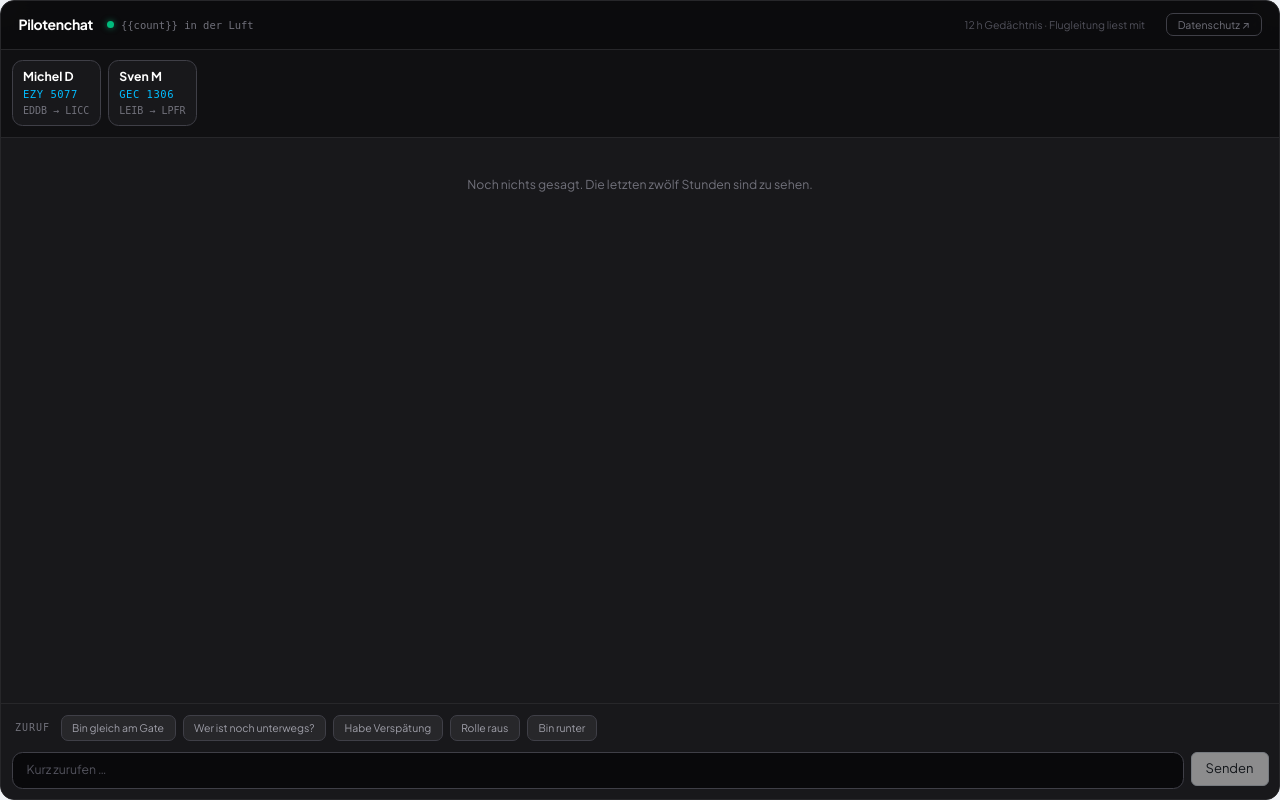
Pilotenchat › nach dem Senden ist die Adressierung wieder aufgehoben
Click the text "Michel D" at (48, 77), box [23,68,74,86]
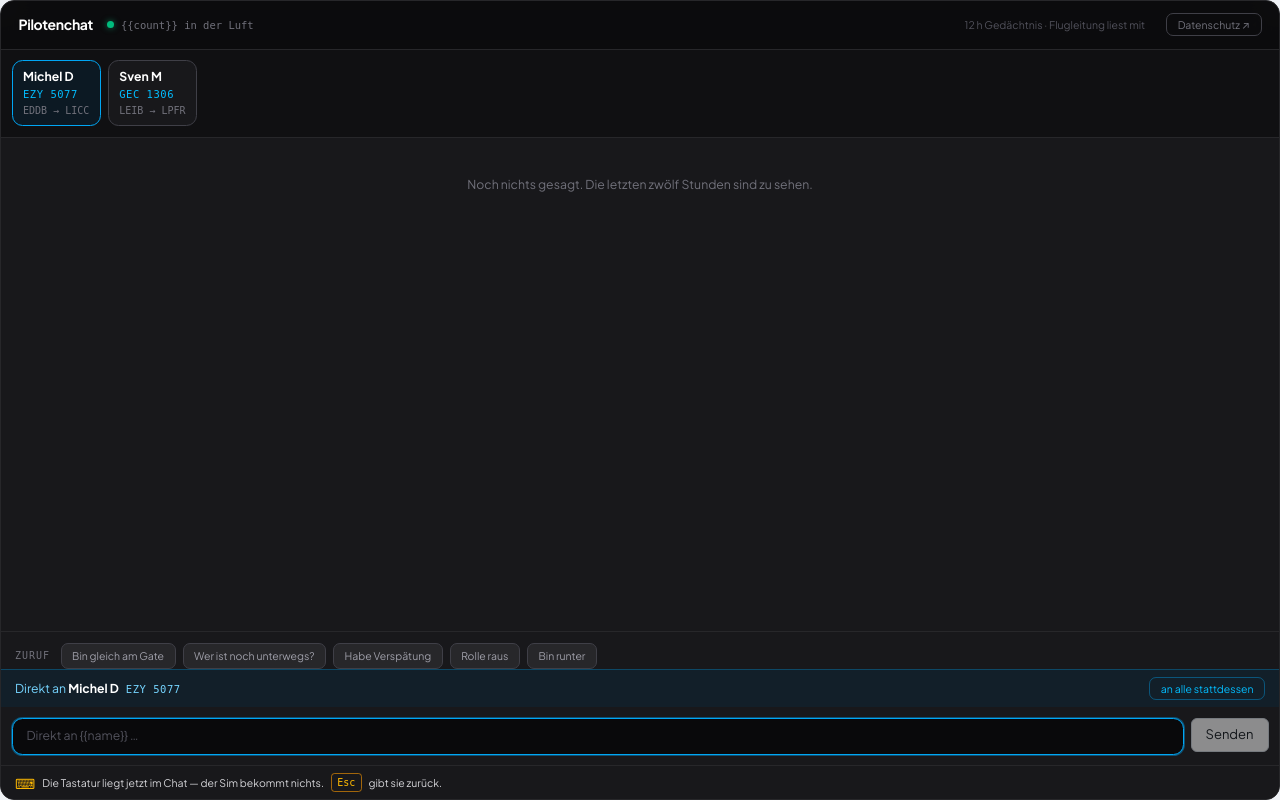
Type "eins" into the field named "Nachricht schreiben" at (598, 736), box [12,718,1184,755]
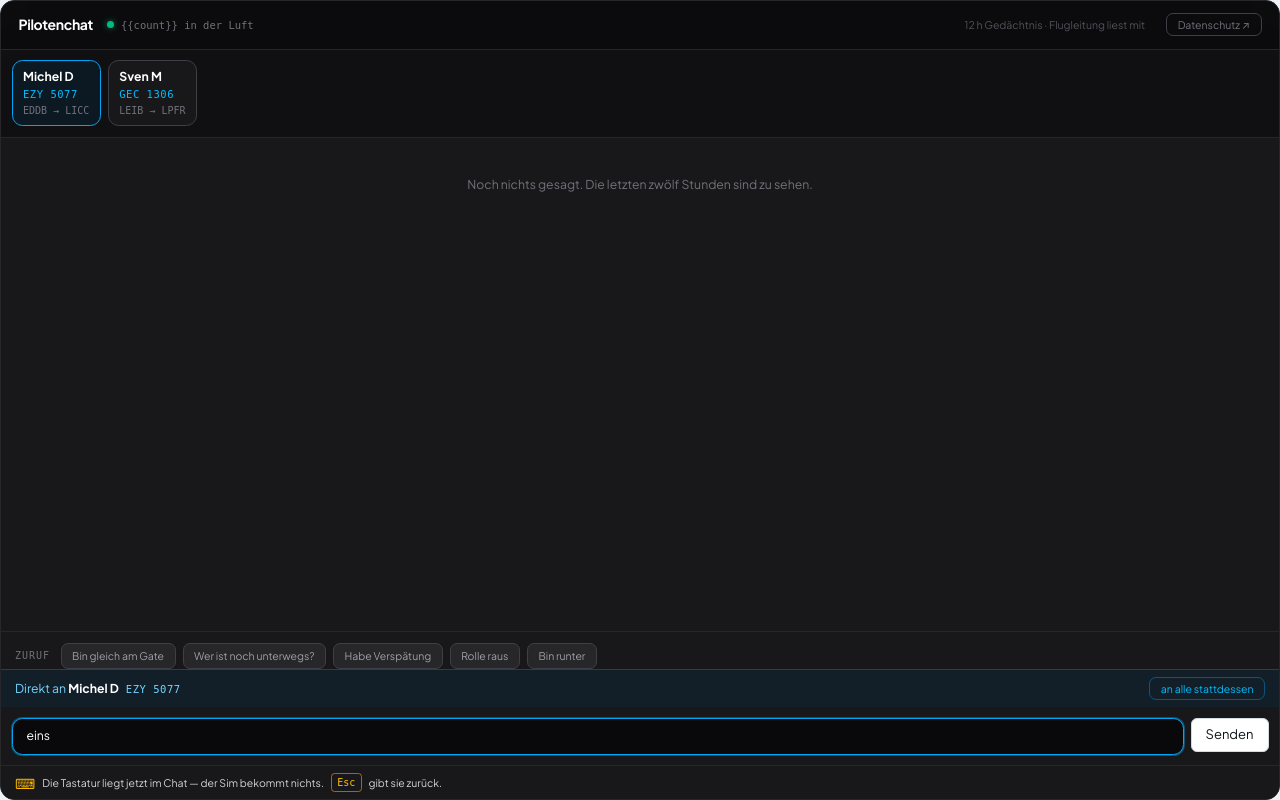
Submit the form named "Nachricht schreiben", box [1,707,1279,765]
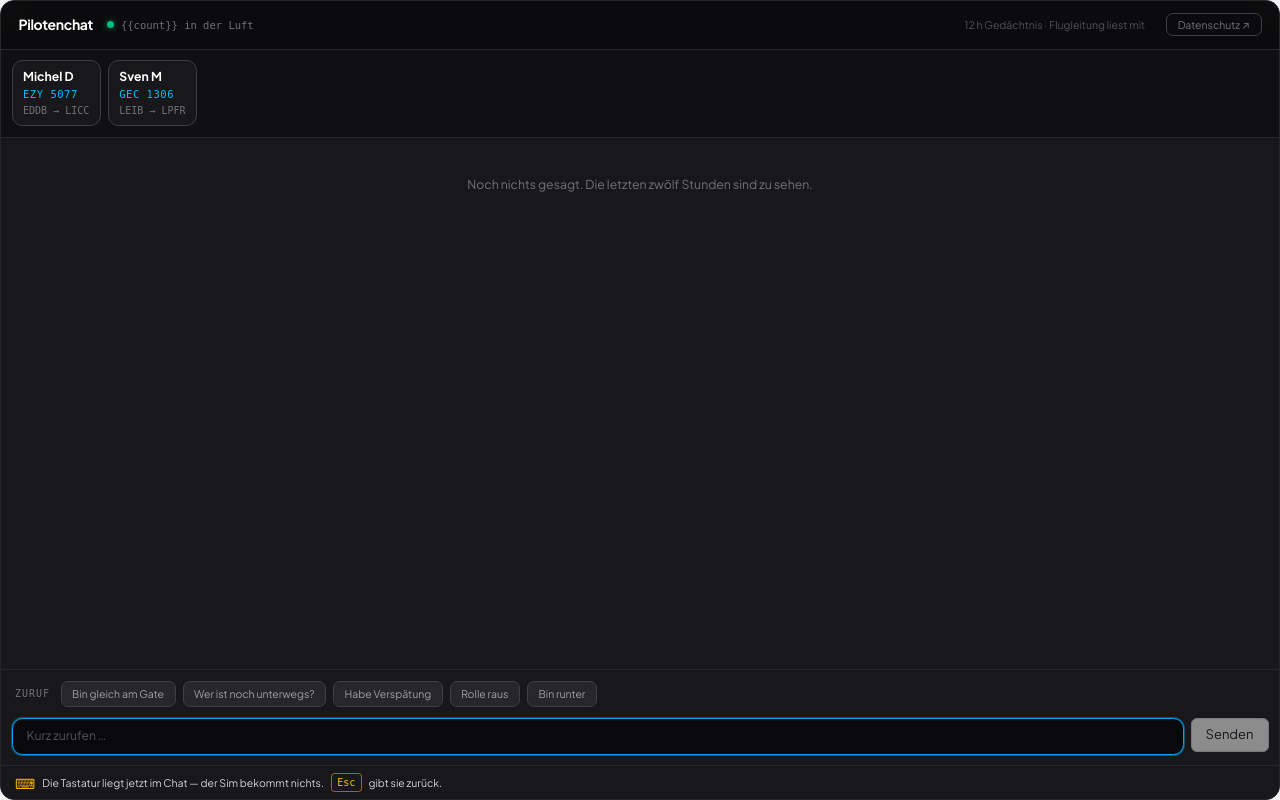
Now the element with class "chat__an-wen" is gone
